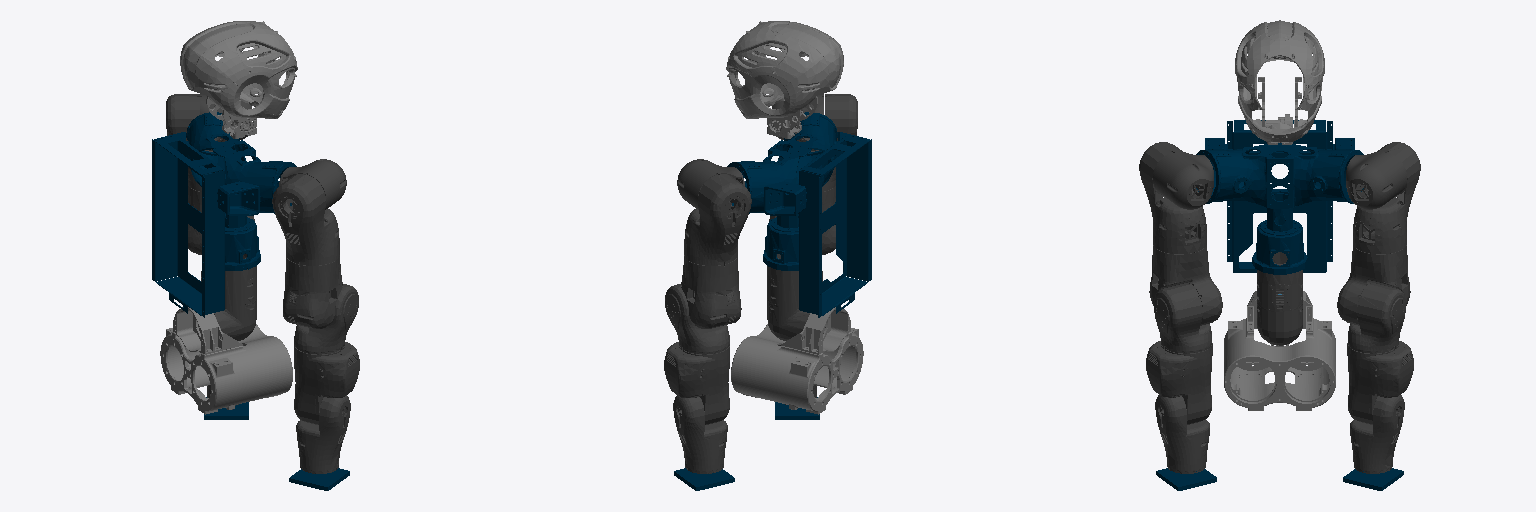
--- Facts derived from the render (not from the file) ---
Views: 3 orthographic renders of the robot side by side, from view 1: azimuth 30°, elevation 25°; view 2: azimuth 150°, elevation 25°; view 3: azimuth 270°, elevation 25°.
Model walkman with 51 links and 50 joints (30 revolute, 19 fixed, 1 floating), rooted at world, posed all joints at 0.
Visible links, largest first — view 1: DWYTorso, Waist, NeckPitch, RShr, RForearm, RShy, RWrMot2, DWL, RElb, RShp, LShr, RWrMot3 (+1 smaller); view 2: DWYTorso, Waist, NeckPitch, LShr, LForearm, LShy, LWrMot2, DWL, LElb, LShp, RShr, LWrMot3 (+1 smaller); view 3: DWYTorso, Waist, NeckPitch, RForearm, LForearm, RShr, LShr, DWL, RElb, LElb, RWrMot2, LWrMot2 (+6 smaller).
Boxes of the visible links, box(x1,y1,x2,y2) form: DWYTorso: box(152, 112, 296, 317); Waist: box(160, 307, 292, 414); NeckPitch: box(180, 21, 297, 134); RShr: box(272, 174, 339, 265); RForearm: box(294, 342, 359, 424); RShy: box(283, 256, 342, 328); RWrMot2: box(296, 395, 350, 473); DWL: box(214, 254, 256, 340); RElb: box(294, 284, 358, 354); RShp: box(279, 159, 346, 212); LShr: box(166, 94, 212, 191); RWrMot3: box(289, 468, 349, 490); DWYTorso: box(727, 112, 871, 317); Waist: box(731, 307, 863, 414); NeckPitch: box(726, 21, 843, 134); LShr: box(684, 174, 751, 265); LForearm: box(664, 342, 729, 424); LShy: box(681, 255, 741, 328); LWrMot2: box(673, 395, 727, 473); DWL: box(767, 254, 809, 340); LElb: box(665, 284, 729, 354); LShp: box(677, 159, 744, 212); RShr: box(811, 94, 857, 191); LWrMot3: box(674, 468, 734, 490); DWYTorso: box(1196, 120, 1363, 274); Waist: box(1224, 291, 1335, 410); NeckPitch: box(1235, 20, 1324, 141); RForearm: box(1146, 341, 1212, 424); LForearm: box(1347, 341, 1413, 424); RShr: box(1139, 142, 1206, 253); LShr: box(1353, 142, 1420, 253); DWL: box(1257, 252, 1302, 345); RElb: box(1153, 283, 1211, 353); LElb: box(1348, 283, 1406, 353); RWrMot2: box(1155, 395, 1209, 473); LWrMot2: box(1350, 395, 1404, 473).
Bounding box of the posed robot: 0.3313 × 0.6254 × 1.05 m (x, y, z).
17 mesh visuals loaded from 17 distinct referenced files (11 binary STL); not drawn: 12 (reference not matched to a file when rendering).

The robot description file, URDF, robot "walkman":
<?xml version="1.0" ?>
<!-- =================================================================================== -->
<!-- |    This document was autogenerated by xacro from walkman.urdf.xacro             | -->
<!-- |    EDITING THIS FILE BY HAND IS NOT RECOMMENDED                                 | -->
<!-- =================================================================================== -->
<robot name="walkman" xmlns:xacro="http://ros.org/wiki/xacro">
  <!-- 
  ROS urdf definition of the WALKMAN humanoid robot by Istituto Italiano di Tecnologia
  
  DO NOT INCLUDE THIS FILE DIRECTLY! USE bigman_robot.urdf.xacro INSTEAD!

  Author: Enrico Mingo Hoffman

  Inertial matrix has to be in CoM frame (URDF specs)

  Velocity and effort limits are fake!
-->
  <material name="grey">
    <color rgba="0.5 0.5 0.5 1"/>
  </material>
  <material name="dark_grey">
    <color rgba="0.3 0.3 0.3 1"/>
  </material>
  <material name="blue">
    <color rgba="0.0 0.2 0.3 1"/>
  </material>
  <!--
The coordinate frame called base_link is rigidly attached to the robot root body. It is recommended to choose the robot waist as its root body. The base_link can be attached to the root in any arbitrary position or orientation; for every hardware platform there will be a different place on the base that provides an obvious point of reference. Note that REP 103 [1] specifies a preferred orientation for frames. -->
  <link name="base_link"/>
  <!-- Here some masses are missing! -->
  <link name="Waist">
    <inertial>
      <origin rpy="0.0 0.0 0.0" xyz="0.027038986 -5.1554922e-06 -0.064188178"/>
      <mass value="2.9259094"/>
      <inertia ixx="0.02571361" ixy="9.5008024e-06" ixz="0.0043519496" iyy="0.02494919" iyz="4.5439311e-06" izz="0.02492012"/>
    </inertial>
    <visual>
      <origin rpy="0 0 0" xyz="0 0 0"/>
      <geometry name="Waist_visual">
        <mesh filename="package://walkman_urdf/meshes/Waist.STL" scale="0.001 0.001 0.001"/>
      </geometry>
      <material name="grey"/>
    </visual>
    <collision>
      <origin rpy="0 0 0" xyz="0 0 0"/>
      <geometry name="Waist_collision">
        <mesh filename="package://walkman_urdf/meshes/simple/Waist.STL" scale="0.001 0.001 0.001"/>
      </geometry>
    </collision>
  </link>
  <joint name="base_joint" type="fixed">
    <parent link="base_link"/>
    <child link="Waist"/>
    <origin rpy="0 0 0" xyz="0 0 0"/>
  </joint>
  <!-- LINKS -->
  <!-- ********************RIGHT LEG******************** -->
  <link name="RHipMot">
    <inertial>
      <origin rpy="0 0 0" xyz="-0.10348188 -0.10919813 -0.064924056"/>
      <mass value="3.7958197"/>
      <inertia ixx="0.015639017" ixy="0.0018504661" ixz="0.0023907793" iyy="0.023519749" iyz="-0.0023303162" izz="0.020953643"/>
    </inertial>
    <visual>
      <origin rpy="0 0 0" xyz="0 0 0"/>
      <geometry name="RHipMot_visual">
        <mesh filename="package://walkman_urdf/meshes/HipRoll.STL" scale="0.001 0.001 0.001"/>
      </geometry>
      <material name="dark_grey"/>
    </visual>
    <collision>
      <origin rpy="0 0 0" xyz="0 0 0"/>
      <geometry name="RHipMot_collision">
        <mesh filename="package://walkman_urdf/meshes/simple/HipRoll.STL" scale="0.001 0.001 0.001"/>
      </geometry>
    </collision>
  </link>
  <link name="RThighUpLeg">
    <inertial>
      <origin rpy="0 0 0" xyz="-0.0052929709 -0.022561833 0.0056701669"/>
      <mass value="3.2402068"/>
      <inertia ixx="0.010102097" ixy="0.00010858487" ixz="0.00025291395" iyy="0.0067147" iyz="8.3447072e-05" izz="0.01048513"/>
    </inertial>
    <visual>
      <origin rpy="0 0 0" xyz="0 0 0"/>
      <geometry name="RThighUpLeg_visual">
        <mesh filename="package://walkman_urdf/meshes/HipYaw.STL" scale="0.001 0.001 0.001"/>
      </geometry>
      <material name="dark_grey"/>
    </visual>
    <collision>
      <origin rpy="0 0 0" xyz="0 0 0"/>
      <geometry name="RThighUpLeg_collision">
        <mesh filename="package://walkman_urdf/meshes/simple/HipYaw.STL" scale="0.001 0.001 0.001"/>
      </geometry>
    </collision>
  </link>
  <link name="RThighLowLeg">
    <inertial>
      <origin rpy="0 0 0" xyz="0.037746286 -0.028539939 -0.19310133"/>
      <mass value="5.0950736"/>
      <inertia ixx="0.051607858" ixy="0.0022253472" ixz="0.002452979" iyy="0.044349153" iyz="-0.0041006942" izz="0.023374453"/>
    </inertial>
    <visual>
      <origin rpy="0 0 0" xyz="0 0 0"/>
      <geometry name="RThighLowLeg_visual">
        <mesh filename="package://walkman_urdf/meshes/HipPitch.STL" scale="0.001 0.001 0.001"/>
      </geometry>
      <material name="grey"/>
    </visual>
    <collision>
      <origin rpy="0 0 0" xyz="0 0 0"/>
      <geometry name="RThighLowLeg_collision">
        <mesh filename="package://walkman_urdf/meshes/simple/HipPitch.STL" scale="0.001 0.001 0.001"/>
      </geometry>
    </collision>
  </link>
  <link name="RLowLeg">
    <inertial>
      <origin rpy="0 0 0" xyz="-0.0050828668 0.0037732093 -0.072605017"/>
      <mass value="5.6495309"/>
      <inertia ixx="0.10535542" ixy="-0.00058199221" ixz="0.0016743598" iyy="0.097857796" iyz="-0.0033770181" izz="0.020854086"/>
    </inertial>
    <visual>
      <origin rpy="0 0 0" xyz="0 0 0"/>
      <geometry name="RLowLeg_visual">
        <mesh filename="package://walkman_urdf/meshes/KneePitchCalf.STL" scale="0.001 0.001 0.001"/>
      </geometry>
      <material name="dark_grey"/>
    </visual>
    <collision>
      <origin rpy="0 0 0" xyz="0 0 0"/>
      <geometry name="RLowLeg_collision">
        <mesh filename="package://walkman_urdf/meshes/simple/KneePitchCalf.STL" scale="0.001 0.001 0.001"/>
      </geometry>
    </collision>
  </link>
  <link name="RFootmot">
    <inertial>
      <origin rpy="0 0 0" xyz="-0.022024173 0.0025677238 0.00094588455"/>
      <mass value="3.2844159"/>
      <inertia ixx="0.0075550679" ixy="0.00067488292" ixz="5.8332889e-05" iyy="0.011241163" iyz="-0.00014552081" izz="0.013391865"/>
    </inertial>
    <visual>
      <origin rpy="0 0 0" xyz="0 0 0"/>
      <geometry name="RFootmot_visual">
        <mesh filename="package://walkman_urdf/meshes/AnklePitch.STL" scale="0.001 0.001 0.001"/>
      </geometry>
      <material name="dark_grey"/>
    </visual>
    <collision>
      <origin rpy="0 0 0" xyz="0 0 0"/>
      <geometry name="RFootmot_collision">
        <mesh filename="package://walkman_urdf/meshes/simple/AnklePitch.STL" scale="0.001 0.001 0.001"/>
      </geometry>
    </collision>
  </link>
  <link name="RFoot">
    <inertial>
      <origin rpy="0 0 0" xyz="-0.00653584 -0.00479384 -0.10180375"/>
      <mass value="3.42638110"/>
      <inertia ixx="0.01032886" ixy="-0.00016407" ixz="-0.00201294" iyy="0.02854025" iyz="0.00046315" izz="0.02799499"/>
    </inertial>
    <visual>
      <origin rpy="0 0 0" xyz="0 0 0"/>
      <geometry name="RFoot_visual">
        <mesh filename="package://walkman_urdf/meshes/Foot.STL" scale="0.001 0.001 0.001"/>
      </geometry>
      <material name="dark_grey"/>
    </visual>
    <collision>
      <origin rpy="0 0 0" xyz="0.005 -0.01 -0.1359"/>
      <geometry>
        <box size="0.32 0.16 0.015"/>
      </geometry>
    </collision>
  </link>
  <!-- ********************LEFT LEG******************** -->
  <link name="LHipMot">
    <inertial>
      <origin rpy="0 0 0" xyz="-0.10348188 0.10919813 -0.064924056"/>
      <mass value="3.7958197"/>
      <inertia ixx="0.015639017" ixy="-0.0018504661" ixz="0.0023907793" iyy="0.023519749" iyz="0.0023303162" izz="0.020953643"/>
    </inertial>
    <visual>
      <origin rpy="0 0 0" xyz="0 0 0"/>
      <geometry name="LHipMot_visual">
        <mesh filename="package://walkman_urdf/meshes/HipRoll.STL" scale="0.001 -0.001 0.001"/>
      </geometry>
      <material name="dark_grey"/>
    </visual>
    <collision>
      <origin rpy="0 0 0" xyz="0 0 0"/>
      <geometry name="LHipMot_collision">
        <mesh filename="package://walkman_urdf/meshes/simple/HipRoll.STL" scale="0.001 -0.001 0.001"/>
      </geometry>
    </collision>
  </link>
  <link name="LThighUpLeg">
    <inertial>
      <origin rpy="0 0 0" xyz="-0.0052929709 0.022561833 0.0056701669"/>
      <mass value="3.2402068"/>
      <inertia ixx="0.010102097" ixy="-0.00010858487" ixz="0.00025291395" iyy="0.0067147" iyz="-8.3447072e-05" izz="0.01048513"/>
    </inertial>
    <visual>
      <origin rpy="0 0 0" xyz="0 0 0"/>
      <geometry name="LThighUpLeg_visual">
        <mesh filename="package://walkman_urdf/meshes/HipYaw.STL" scale="0.001 -0.001 0.001"/>
      </geometry>
      <material name="dark_grey"/>
    </visual>
    <collision>
      <origin rpy="0 0 0" xyz="0 0 0"/>
      <geometry name="LThighUpLeg_collision">
        <mesh filename="package://walkman_urdf/meshes/simple/HipYaw.STL" scale="0.001 -0.001 0.001"/>
      </geometry>
    </collision>
  </link>
  <link name="LThighLowLeg">
    <inertial>
      <origin rpy="0 0 0" xyz="0.037746286 0.028539939 -0.19310133"/>
      <mass value="5.0950736"/>
      <inertia ixx="0.051607858" ixy="-0.0022253472" ixz="0.002452979" iyy="0.044349153" iyz="0.0041006942" izz="0.023374453"/>
    </inertial>
    <visual>
      <origin rpy="0 0 0" xyz="0 0 0"/>
      <geometry name="LThighLowLeg_visual">
        <mesh filename="package://walkman_urdf/meshes/HipPitch.STL" scale="0.001 -0.001 0.001"/>
      </geometry>
      <material name="grey"/>
    </visual>
    <collision>
      <origin rpy="0 0 0" xyz="0 0 0"/>
      <geometry name="LThighLowLeg_collision">
        <mesh filename="package://walkman_urdf/meshes/simple/HipPitch.STL" scale="0.001 -0.001 0.001"/>
      </geometry>
    </collision>
  </link>
  <link name="LLowLeg">
    <inertial>
      <origin rpy="0 0 0" xyz="-0.0050828668 -0.0037732093 -0.072605017"/>
      <mass value="5.6495309"/>
      <inertia ixx="0.10535542" ixy="0.00058199221" ixz="0.0016743598" iyy="0.097857796" iyz="0.0033770181" izz="0.020854086"/>
    </inertial>
    <visual>
      <origin rpy="0 0 0" xyz="0 0 0"/>
      <geometry name="LLowLeg_visual">
        <mesh filename="package://walkman_urdf/meshes/KneePitchCalf.STL" scale="0.001 -0.001 0.001"/>
      </geometry>
      <material name="dark_grey"/>
    </visual>
    <collision>
      <origin rpy="0 0 0" xyz="0 0 0"/>
      <geometry name="LLowLeg_collision">
        <mesh filename="package://walkman_urdf/meshes/simple/KneePitchCalf.STL" scale="0.001 -0.001 0.001"/>
      </geometry>
    </collision>
  </link>
  <link name="LFootmot">
    <inertial>
      <origin rpy="0 0 0" xyz="-0.022024173 -0.0025677238 0.00094588455"/>
      <mass value="3.2844159"/>
      <inertia ixx="0.0075550679" ixy="-0.00067488292" ixz="5.8332889e-05" iyy="0.011241163" iyz="0.00014552081" izz="0.013391865"/>
    </inertial>
    <visual>
      <origin rpy="0 0 0" xyz="0 0 0"/>
      <geometry name="LFootmot_visual">
        <mesh filename="package://walkman_urdf/meshes/AnklePitch.STL" scale="0.001 -0.001 0.001"/>
      </geometry>
      <material name="dark_grey"/>
    </visual>
    <collision>
      <origin rpy="0 0 0" xyz="0 0 0"/>
      <geometry name="LFootmot_collision">
        <mesh filename="package://walkman_urdf/meshes/simple/AnklePitch.STL" scale="0.001 -0.001 0.001"/>
      </geometry>
    </collision>
  </link>
  <link name="LFoot">
    <inertial>
      <origin rpy="0 0 0" xyz="-0.00653584 0.00479384 -0.10180375"/>
      <mass value="3.42638110"/>
      <inertia ixx="0.01032886" ixy="0.00016407" ixz="-0.00201294" iyy="0.02854025" iyz="-0.00046315" izz="0.02799499"/>
    </inertial>
    <visual>
      <origin rpy="0 0 0" xyz="0 0 0"/>
      <geometry name="LFoot_visual">
        <mesh filename="package://walkman_urdf/meshes/Foot.STL" scale="0.001 -0.001 0.001"/>
      </geometry>
      <material name="dark_grey"/>
    </visual>
    <collision>
      <origin rpy="0 0 0" xyz="0.005 0.01 -0.1359"/>
      <geometry>
        <box size="0.32 0.16 0.015"/>
      </geometry>
    </collision>
  </link>
  <!-- JOINTS -->
  <!-- ********************RIGHT LEG******************** -->
  <joint name="RHipLat" type="revolute">
    <parent link="Waist"/>
    <child link="RHipMot"/>
    <origin rpy="0 0 0" xyz="0.1569 -0.06 -0.108"/>
    <axis xyz="1 0 0"/>
    <limit effort="400" lower="-0.872664625997" upper="0.698131700798" velocity="6.283"/>
    <dynamics damping="3.0" friction="0"/>
  </joint>
  <joint name="RHipYaw" type="revolute">
    <parent link="RHipMot"/>
    <child link="RThighUpLeg"/>
    <origin rpy="0 0 0" xyz="-0.0889 -0.121032 -0.217872"/>
    <axis xyz="0 0 1"/>
    <limit effort="140" lower="-1.5707963268" upper="0.872664625997" velocity="6.283"/>
    <dynamics damping="3.0" friction="0"/>
  </joint>
  <joint name="RHipSag" type="revolute">
    <parent link="RThighUpLeg"/>
    <child link="RThighLowLeg"/>
    <origin rpy="0 0 0" xyz="0.0 0.0 0.0"/>
    <axis xyz="0 1 0"/>
    <limit effort="400" lower="-2.09439510239" upper="1.0471975512" velocity="6.283"/>
    <dynamics damping="3.0" friction="0"/>
  </joint>
  <joint name="RKneeSag" type="revolute">
    <parent link="RThighLowLeg"/>
    <child link="RLowLeg"/>
    <origin rpy="0 0 0" xyz="0.0 0.0 -0.356"/>
    <axis xyz="0 1 0"/>
    <limit effort="400" lower="0.0" upper="2.44346095279" velocity="6.283"/>
    <dynamics damping="3.0" friction="0"/>
  </joint>
  <joint name="RAnkSag" type="revolute">
    <parent link="RLowLeg"/>
    <child link="RFootmot"/>
    <origin rpy="0 0 0" xyz="0.0 0.0 -0.4"/>
    <axis xyz="0 1 0"/>
    <limit effort="330" lower="-1.3962634016" upper="0.698131700798" velocity="6.283"/>
    <dynamics damping="3.0" friction="0"/>
  </joint>
  <joint name="RAnkLat" type="revolute">
    <parent link="RFootmot"/>
    <child link="RFoot"/>
    <origin rpy="0 0 0" xyz="0.0 0.0 0.0"/>
    <axis xyz="1 0 0"/>
    <limit effort="210" lower="-0.785398163398" upper="0.785398163398" velocity="6.283"/>
    <dynamics damping="3.0" friction="0"/>
  </joint>
  <!-- ********************LEFT LEG******************** -->
  <joint name="LHipLat" type="revolute">
    <parent link="Waist"/>
    <child link="LHipMot"/>
    <origin rpy="0 0 0" xyz="0.1569 0.06 -0.108"/>
    <axis xyz="1 0 0"/>
    <limit effort="400" lower="-0.698131700798" upper="0.872664625997" velocity="6.283"/>
    <dynamics damping="3.0" friction="0"/>
  </joint>
  <joint name="LHipYaw" type="revolute">
    <parent link="LHipMot"/>
    <child link="LThighUpLeg"/>
    <origin rpy="0 0 0" xyz="-0.0889 0.121032 -0.217872"/>
    <axis xyz="0 0 1"/>
    <limit effort="140" lower="-0.872664625997" upper="1.5707963268" velocity="6.283"/>
    <dynamics damping="3.0" friction="0"/>
  </joint>
  <joint name="LHipSag" type="revolute">
    <parent link="LThighUpLeg"/>
    <child link="LThighLowLeg"/>
    <origin rpy="0 0 0" xyz="0.0 0.0 0.0"/>
    <axis xyz="0 1 0"/>
    <limit effort="400" lower="-2.09439510239" upper="1.0471975512" velocity="6.283"/>
    <dynamics damping="3.0" friction="0"/>
  </joint>
  <joint name="LKneeSag" type="revolute">
    <parent link="LThighLowLeg"/>
    <child link="LLowLeg"/>
    <origin rpy="0 0 0" xyz="0.0 0.0 -0.356"/>
    <axis xyz="0 1 0"/>
    <limit effort="400" lower="0.0" upper="2.44346095279" velocity="6.283"/>
    <dynamics damping="3.0" friction="0"/>
  </joint>
  <joint name="LAnkSag" type="revolute">
    <parent link="LLowLeg"/>
    <child link="LFootmot"/>
    <origin rpy="0 0 0" xyz="0.0 0.0 -0.4"/>
    <axis xyz="0 1 0"/>
    <limit effort="330" lower="-1.3962634016" upper="0.698131700798" velocity="6.283"/>
    <dynamics damping="3.0" friction="0"/>
  </joint>
  <joint name="LAnkLat" type="revolute">
    <parent link="LFootmot"/>
    <child link="LFoot"/>
    <origin rpy="0 0 0" xyz="0.0 0.0 0.0"/>
    <axis xyz="1 0 0"/>
    <limit effort="210" lower="-0.785398163398" upper="0.785398163398" velocity="6.283"/>
    <dynamics damping="3.0" friction="0"/>
  </joint>
  <link name="l_ankle"/>
  <link name="r_ankle"/>
  <link name="l_sole"/>
  <link name="r_sole"/>
  <joint name="l_ankle_joint" type="fixed">
    <parent link="LFoot"/>
    <child link="l_ankle"/>
    <origin rpy="0 0 0" xyz="0 0 0"/>
  </joint>
  <joint name="r_ankle_joint" type="fixed">
    <parent link="RFoot"/>
    <child link="r_ankle"/>
    <origin rpy="0 0 0" xyz="0 0 0"/>
  </joint>
  <joint name="l_sole_joint" type="fixed">
    <parent link="LFoot"/>
    <child link="l_sole"/>
    <origin rpy="0 0 0" xyz="0 0 -0.1435"/>
  </joint>
  <joint name="r_sole_joint" type="fixed">
    <parent link="RFoot"/>
    <child link="r_sole"/>
    <origin rpy="0 0 0" xyz="0 0 -0.1435"/>
  </joint>
  <!-- macro for one reference frame in foot -->
  <link name="l_foot_upper_right_link"/>
  <joint name="l_foot_upper_right_joint" type="fixed">
    <origin rpy="0 0 0" xyz="0.16 -0.07 0"/>
    <parent link="l_sole"/>
    <child link="l_foot_upper_right_link"/>
  </joint>
  <!-- macro for one reference frame in foot -->
  <link name="l_foot_upper_left_link"/>
  <joint name="l_foot_upper_left_joint" type="fixed">
    <origin rpy="0 0 0" xyz="0.16 0.09 0"/>
    <parent link="l_sole"/>
    <child link="l_foot_upper_left_link"/>
  </joint>
  <!-- macro for one reference frame in foot -->
  <link name="l_foot_lower_right_link"/>
  <joint name="l_foot_lower_right_joint" type="fixed">
    <origin rpy="0 0 0" xyz="-0.16 -0.07 0"/>
    <parent link="l_sole"/>
    <child link="l_foot_lower_right_link"/>
  </joint>
  <!-- macro for one reference frame in foot -->
  <link name="l_foot_lower_left_link"/>
  <joint name="l_foot_lower_left_joint" type="fixed">
    <origin rpy="0 0 0" xyz="-0.16 0.09 0"/>
    <parent link="l_sole"/>
    <child link="l_foot_lower_left_link"/>
  </joint>
  <!-- macro for one reference frame in foot -->
  <link name="r_foot_upper_right_link"/>
  <joint name="r_foot_upper_right_joint" type="fixed">
    <origin rpy="0 0 0" xyz="0.16 0.07 0"/>
    <parent link="r_sole"/>
    <child link="r_foot_upper_right_link"/>
  </joint>
  <!-- macro for one reference frame in foot -->
  <link name="r_foot_upper_left_link"/>
  <joint name="r_foot_upper_left_joint" type="fixed">
    <origin rpy="0 0 0" xyz="0.16 -0.09 0"/>
    <parent link="r_sole"/>
    <child link="r_foot_upper_left_link"/>
  </joint>
  <!-- macro for one reference frame in foot -->
  <link name="r_foot_lower_right_link"/>
  <joint name="r_foot_lower_right_joint" type="fixed">
    <origin rpy="0 0 0" xyz="-0.16 0.07 0"/>
    <parent link="r_sole"/>
    <child link="r_foot_lower_right_link"/>
  </joint>
  <!-- macro for one reference frame in foot -->
  <link name="r_foot_lower_left_link"/>
  <joint name="r_foot_lower_left_joint" type="fixed">
    <origin rpy="0 0 0" xyz="-0.16 -0.09 0"/>
    <parent link="r_sole"/>
    <child link="r_foot_lower_left_link"/>
  </joint>
  <!-- LINKS -->
  <!-- This links are defined in order to be compliant with http://www.ros.org/reps/rep-0120.html#coordinate-frames
and to define the end effectors of the robot-->
  <!-- The coordinate frame called torso is attached to the lowest body of the model which is a parent of l_gripper, r_gripper and gaze. -->
  <link name="DWL">
    <inertial>
      <origin rpy="0 0 0" xyz="-0.013438629 -2.4995993e-05 0.073562799"/>
      <mass value="2.4309068"/>
      <inertia ixx="0.016702798" ixy="3.5908153e-05" ixz="-0.0041709274" iyy="0.019440925" iyz="1.1578036e-05" izz="0.0057721068"/>
    </inertial>
    <visual>
      <origin rpy="0 0 0" xyz="0.0 0.0 0.0"/>
      <geometry name="DWL_visual">
        <mesh filename="package://walkman_urdf/meshes/TorsoRoll.STL" scale="0.001 0.001 0.001"/>
      </geometry>
      <material name="dark_grey"/>
    </visual>
    <collision>
      <origin rpy="0 0 0" xyz="0.0 0.0 0.0"/>
      <geometry name="DWL_collision">
        <mesh filename="package://walkman_urdf/meshes/simple/TorsoRoll.STL" scale="0.001 0.001 0.001"/>
      </geometry>
    </collision>
  </link>
  <link name="DWYTorso">
    <inertial>
      <origin rpy="0 0 0" xyz="-0.059646212 0.0014305062 0.042741527"/>
      <mass value="1.2512295e+01"/>
      <inertia ixx="0.21021617" ixy="-0.00015527214" ixz="-0.050216602" iyy="0.19982996" iyz="-0.00029204792" izz="0.14025094"/>
    </inertial>
    <visual>
      <origin rpy="0 0 0" xyz="0.0 0.0 0.0"/>
      <geometry name="DWYTorso_visual">
        <mesh filename="package://walkman_urdf/meshes/Chest.STL" scale="0.001 0.001 0.001"/>
      </geometry>
      <material name="blue"/>
    </visual>
    <collision>
      <origin rpy="0 0 0" xyz="0.0 0.0 0.0"/>
      <geometry name="DWYTorso_collision">
        <mesh filename="package://walkman_urdf/meshes/simple/Chest.STL" scale="0.001 0.001 0.001"/>
      </geometry>
    </collision>
  </link>
  <!--link name="torso"/-->
  <!-- JOINTS -->
  <!--joint name="torso_joint" type="fixed">
    <parent link="DWYTorso"/>
    <child link="torso"/>
    <origin xyz="0.0 0 0.0" rpy="0 0 0" /> 
</joint-->
  <joint name="WaistLat" type="revolute">
    <parent link="Waist"/>
    <child link="DWL"/>
    <origin rpy="0 0 0" xyz="0.0596 0 0.0"/>
    <axis xyz="1 0 0"/>
    <limit effort="120" lower="-0.610865238198" upper="0.610865238198" velocity="6.283"/>
    <dynamics damping="3.0" friction="0"/>
  </joint>
  <joint name="WaistYaw" type="revolute">
    <parent link="DWL"/>
    <child link="DWYTorso"/>
    <origin rpy="0 0 0" xyz="0.0088 0 0.22215"/>
    <axis xyz="0 0 1"/>
    <limit effort="120" lower="-1.74532925199" upper="1.74532925199" velocity="6.283"/>
    <dynamics damping="3.0" friction="0"/>
  </joint>
  <!-- LINKS -->
  <link name="NeckYaw">
    <inertial>
      <origin rpy="0 0 0" xyz="0.00017665124 -0.00056962982 0.009696191 "/>
      <mass value="5.9544662e-01"/>
      <inertia ixx="0.00044402452" ixy="-4.7573996e-08" ixz="1.2703055e-07" iyy="0.00036958221" iyz="5.6524326e-06" izz="0.00027123782"/>
    </inertial>
    <visual>
      <origin rpy="0 0 0" xyz="0.0 0.0 0.0"/>
      <geometry name="NeckYaw_visual">
        <mesh filename="package://walkman_urdf/meshes/NeckYaw.STL" scale="0.001 0.001 0.001"/>
      </geometry>
      <material name="grey"/>
    </visual>
    <collision>
      <origin rpy="0 0 0" xyz="0.0 0.0 0.0"/>
      <geometry name="NeckYaw_collision">
        <mesh filename="package://walkman_urdf/meshes/simple/NeckYaw.STL" scale="0.001 0.001 0.001"/>
      </geometry>
    </collision>
  </link>
  <link name="NeckPitch">
    <inertial>
      <origin rpy="0 0 0" xyz="0.0065724785 -0.034569915 0.11402826"/>
      <mass value="3.1388490"/>
      <inertia ixx="0.022067171" ixy="-3.2510922e-05" ixz="-0.001205899" iyy="0.019140289" iyz="-9.6672078e-05" izz="0.021334662"/>
    </inertial>
    <visual>
      <origin rpy="0 0 0" xyz="0.0 0.0 0.0"/>
      <geometry name="NeckPitch_visual">
        <mesh filename="package://walkman_urdf/meshes/NeckPitch.STL" scale="0.001 0.001 0.001"/>
      </geometry>
      <material name="grey"/>
    </visual>
    <collision>
      <origin rpy="0 0 0" xyz="0.0 0.0 0.0"/>
      <geometry name="NeckPitch_collision">
        <mesh filename="package://walkman_urdf/meshes/simple/NeckPitch.STL" scale="0.001 0.001 0.001"/>
      </geometry>
    </collision>
  </link>
  <!-- JOINTS -->
  <joint name="NeckYawj" type="revolute">
    <parent link="DWYTorso"/>
    <child link="NeckYaw"/>
    <origin rpy="0 0 0" xyz="0.016 0 0.238292"/>
    <axis xyz="0 0 1"/>
    <limit effort="120" lower="-0.610865238198" upper="0.610865238198" velocity="6.283"/>
    <dynamics damping="3.0" friction="0"/>
  </joint>
  <joint name="NeckPitchj" type="revolute">
    <parent link="NeckYaw"/>
    <child link="NeckPitch"/>
    <origin rpy="0 0 0" xyz="0 0.03425 0.027"/>
    <axis xyz="0 1 0"/>
    <limit effort="120" lower="-0.261799387799" upper="1.0471975512" velocity="6.283"/>
    <dynamics damping="3.0" friction="0"/>
  </joint>
  <!-- RIGHT ARM -->
  <link name="RShp">
    <inertial>
      <origin rpy="0 0 0" xyz="-0.0074457212 -0.03410796 0.00010978102"/>
      <mass value="1.9628675"/>
      <inertia ixx="0.0053547717" ixy="-0.00036428926" ixz="1.5089568e-05" iyy="0.0033923328" iyz="-5.5692312e-05" izz="0.0068921413"/>
    </inertial>
    <visual>
      <origin rpy="0 0 0" xyz="0 0 0"/>
      <geometry name="RShp_visual">
        <mesh filename="package://walkman_urdf/meshes/ShoulderPitch.STL" scale="0.001 0.001 0.001"/>
      </geometry>
      <material name="dark_grey"/>
    </visual>
    <collision>
      <origin rpy="0 0 0" xyz="0 0 0"/>
      <geometry name="RShp_collision">
        <mesh filename="package://walkman_urdf/meshes/simple/ShoulderPitch.STL" scale="0.001 0.001 0.001"/>
      </geometry>
    </collision>
  </link>
  <link name="RShr">
    <inertial>
      <origin rpy="0 0 0" xyz="0.058142302 -5.7450803e-05 -0.077477683"/>
      <mass value="1.8595811"/>
      <inertia ixx="0.013776643" ixy="-3.7788675e-05" ixz="0.0037690171" iyy="0.015677464" iyz="9.4893549e-06" izz="0.0046317657"/>
    </inertial>
    <visual>
      <origin rpy="0 0 0" xyz="0 0 0"/>
      <geometry name="RShr_visual">
        <mesh filename="package://walkman_urdf/meshes/ShoulderRoll.STL" scale="0.001 0.001 0.001"/>
      </geometry>
      <material name="dark_grey"/>
    </visual>
    <collision>
      <origin rpy="0 0 0" xyz="0 0 0"/>
      <geometry name="RShr_collision">
        <mesh filename="package://walkman_urdf/meshes/simple/ShoulderRoll.STL" scale="0.001 0.001 0.001"/>
      </geometry>
    </collision>
  </link>
  <link name="RShy">
    <inertial>
      <origin rpy="0 0 0" xyz="0.014625194 -0.0008172672 -0.028333545"/>
      <mass value="1.6678109"/>
      <inertia ixx="0.0064480435" ixy="0.00015639093" ixz="0.0012205359" iyy="0.0073372077" iyz="-8.9941532e-05" izz="0.0036738448"/>
    </inertial>
    <visual>
      <origin rpy="0 0 0" xyz="0 0 0"/>
      <geometry name="RShy_visual">
        <mesh filename="package://walkman_urdf/meshes/ShoulderYaw.STL" scale="0.001 0.001 0.001"/>
      </geometry>
      <material name="dark_grey"/>
    </visual>
    <collision>
      <origin rpy="0 0 0" xyz="0 0 0"/>
      <geometry name="RShy_collision">
        <mesh filename="package://walkman_urdf/meshes/simple/ShoulderYaw.STL" scale="0.001 0.001 0.001"/>
      </geometry>
    </collision>
  </link>
  <link name="RElb">
    <inertial>
      <origin rpy="0 0 0" xyz="-0.0076833067 0.040302205 -0.043492779"/>
      <mass value="1.3157289"/>
      <inertia ixx="0.004330394" ixy="0.00011737391" ixz="-0.00041923199" iyy="0.0038539919" iyz="0.00079573038" izz="0.0017594689"/>
    </inertial>
    <visual>
      <origin rpy="0 0 0" xyz="0 0 0"/>
      <geometry name="RElb_visual">
        <mesh filename="package://walkman_urdf/meshes/Elbow.STL" scale="0.001 0.001 0.001"/>
      </geometry>
      <material name="dark_grey"/>
    </visual>
    <collision>
      <origin rpy="0 0 0" xyz="0 0 0"/>
      <geometry name="RElb_collision">
        <mesh filename="package://walkman_urdf/meshes/simple/Elbow.STL" scale="0.001 0.001 0.001"/>
      </geometry>
    </collision>
  </link>
  <link name="RForearm">
    <inertial>
      <origin rpy="0 0 0" xyz="-0.00011079615 -0.011590836 -0.07816026"/>
      <mass value="1.4908547"/>
      <inertia ixx="0.0085692128" ixy="-1.7856252e-05" ixz="1.9379365e-05" iyy="0.0077454159" iyz="0.00032860094" izz="0.0027441921"/>
    </inertial>
    <visual>
      <origin rpy="0 0 0" xyz="0 0 0"/>
      <geometry name="RForearm_visual">
        <mesh filename="package://walkman_urdf/meshes/Forearm.STL" scale="0.001 0.001 0.001"/>
      </geometry>
      <material name="dark_grey"/>
    </visual>
    <collision>
      <origin rpy="0 0 0" xyz="0 0 0"/>
      <geometry name="RForearm_collision">
        <mesh filename="package://walkman_urdf/meshes/simple/Forearm.STL" scale="0.001 0.001 0.001"/>
      </geometry>
    </collision>
  </link>
  <link name="RWrMot2">
    <inertial>
      <origin rpy="0 0 0" xyz="-4.6502396e-06 0.038014094 -0.069926878"/>
      <mass value="1.1263612"/>
      <inertia ixx="0.0051871784" ixy="-2.724437e-05" ixz="2.2833496e-06" iyy="0.0048037789" iyz="0.00072165653" izz="0.0012771388"/>
    </inertial>
    <visual>
      <origin rpy="0 0 0" xyz="0 0 0"/>
      <geometry name="RWrMot2_visual">
        <mesh filename="package://walkman_urdf/meshes/ForearmPitch.STL" scale="0.001 0.001 0.001"/>
      </geometry>
      <material name="dark_grey"/>
    </visual>
    <collision>
      <origin rpy="0 0 0" xyz="0 0 0"/>
      <geometry name="RWrMot2_collision">
        <mesh filename="package://walkman_urdf/meshes/simple/ForearmPitch.STL" scale="0.001 0.001 0.001"/>
      </geometry>
    </collision>
  </link>
  <link name="RWrMot3">
    <inertial>
      <origin rpy="0 0 0" xyz="0 0 0.03127057"/>
      <mass value="2.7966428e-01"/>
      <inertia ixx="0.00014415192" ixy="9.8651826e-08" ixz="0" iyy="0.0001441701" iyz="0" izz="6.0500616e-05"/>
    </inertial>
    <visual>
      <!--origin xyz="0 0 0" rpy="0 0 0"/-->
      <origin rpy="0 0 0" xyz="0 0 0"/>
      <geometry name="RWrMot3_visual">
        <!--mesh filename="package://walkman_urdf/meshes/ForearmYaw.STL" scale="0.001 0.001 0.001" /-->
        <box size="0.1 0.1 0.01"/>
      </geometry>
      <material name="blue"/>
    </visual>
    <collision>
      <!--origin xyz="0 0 0" rpy="0 0 0"/-->
      <origin rpy="0 0 0" xyz="0 0 0"/>
      <geometry name="RWrMot3_collision">
        <!--mesh filename="package://walkman_urdf/meshes/simple/ForearmYaw.STL" scale="0.001 0.001 0.001" /-->
        <box size="0.1 0.1 0.01"/>
      </geometry>
    </collision>
  </link>
  <joint name="RShSag" type="revolute">
    <parent link="DWYTorso"/>
    <child link="RShp"/>
    <origin rpy="-0.174533 0 0.5235988" xyz="0.0457475 -0.169137 0.155126"/>
    <axis xyz="0 1 0"/>
    <limit effort="147" lower="-3.40339204139" upper="1.65806278939" velocity="6.283"/>
    <dynamics damping="3.0" friction="0"/>
  </joint>
  <joint name="RShLat" type="revolute">
    <parent link="RShp"/>
    <child link="RShr"/>
    <origin rpy="0.1745327 0 0" xyz="-0.09015 -0.062 0"/>
    <axis xyz="1 0 0"/>
    <limit effort="120" lower="-3.49065850399" upper="0" velocity="6.283"/>
    <dynamics damping="3.0" friction="0"/>
  </joint>
  <joint name="RShYaw" type="revolute">
    <parent link="RShr"/>
    <child link="RShy"/>
    <origin rpy="0 0 0" xyz="0.09015 0 -0.21815"/>
    <axis xyz="0 0 1"/>
    <limit effort="147" lower="-2.61799387799" upper="2.61799387799" velocity="6.283"/>
    <dynamics damping="3.0" friction="0"/>
  </joint>
  <joint name="RElbj" type="revolute">
    <parent link="RShy"/>
    <child link="RElb"/>
    <origin rpy="0 0 0" xyz="0.045 -0.05515 -0.074"/>
    <axis xyz="0 1 0"/>
    <limit effort="147" lower="-2.96705972839" upper="0.593411945678" velocity="6.283"/>
    <dynamics damping="3.0" friction="0"/>
  </joint>
  <joint name="RForearmPlate" type="revolute">
    <parent link="RElb"/>
    <child link="RForearm"/>
    <origin rpy="0 0 0" xyz="-0.015 0.05515 -0.095"/>
    <axis xyz="0 0 1"/>
    <limit effort="55" lower="-2.61799387799" upper="2.61799387799" velocity="6.283"/>
    <dynamics damping="0.03" friction="0"/>
  </joint>
  <joint name="RWrj1" type="revolute">
    <parent link="RForearm"/>
    <child link="RWrMot2"/>
    <origin rpy="0 0 0" xyz="0 -0.049 -0.156"/>
    <axis xyz="0 1 0"/>
    <limit effort="55" lower="-1.5707963268" upper="1.5707963268" velocity="6.283"/>
    <dynamics damping="0.03" friction="0"/>
  </joint>
  <joint name="RWrj2" type="revolute">
    <parent link="RWrMot2"/>
    <child link="RWrMot3"/>
    <origin rpy="0 0 0" xyz="0 0.049 -0.174"/>
    <axis xyz="0 0 1"/>
    <limit effort="27" lower="-2.61799387799" upper="2.61799387799" velocity="6.283"/>
    <dynamics damping="0.03" friction="0"/>
  </joint>
  <!-- LEFT ARM -->
  <link name="LShp">
    <inertial>
      <origin rpy="0 0 0" xyz="-0.0074457212 0.03410796 0.00010978102"/>
      <mass value="1.9628675"/>
      <inertia ixx="0.0053547717" ixy="0.00036428926" ixz="1.5089568e-05" iyy="0.0033923328" iyz="5.5692312e-05" izz="0.0068921413"/>
    </inertial>
    <visual>
      <origin rpy="0 0 0" xyz="0 0 0"/>
      <geometry name="LShp_visual">
        <mesh filename="package://walkman_urdf/meshes/ShoulderPitch.STL" scale="0.001 -0.001 0.001"/>
      </geometry>
      <material name="dark_grey"/>
    </visual>
    <collision>
      <origin rpy="0 0 0" xyz="0 0 0"/>
      <geometry name="LShp_collision">
        <mesh filename="package://walkman_urdf/meshes/simple/ShoulderPitch.STL" scale="0.001 -0.001 0.001"/>
      </geometry>
    </collision>
  </link>
  <link name="LShr">
    <inertial>
      <origin rpy="0 0 0" xyz="0.058142302 5.7450803e-05 -0.077477683"/>
      <mass value="1.8595811"/>
      <inertia ixx="0.013776643" ixy="3.7788675e-05" ixz="0.0037690171" iyy="0.015677464" iyz="-9.4893549e-06" izz="0.0046317657"/>
    </inertial>
    <visual>
      <origin rpy="0 0 0" xyz="0 0 0"/>
      <geometry name="LShr_visual">
        <mesh filename="package://walkman_urdf/meshes/ShoulderRoll.STL" scale="0.001 -0.001 0.001"/>
      </geometry>
      <material name="dark_grey"/>
    </visual>
    <collision>
      <origin rpy="0 0 0" xyz="0 0 0"/>
      <geometry name="LShr_collision">
        <mesh filename="package://walkman_urdf/meshes/simple/ShoulderRoll.STL" scale="0.001 -0.001 0.001"/>
      </geometry>
    </collision>
  </link>
  <link name="LShy">
    <inertial>
      <origin rpy="0 0 0" xyz="0.014625194 0.0008172672 -0.028333545"/>
      <mass value="1.6678109"/>
      <inertia ixx="0.0064480435" ixy="-0.00015639093" ixz="0.0012205359" iyy="0.0073372077" iyz="8.9941532e-05" izz="0.0036738448"/>
    </inertial>
    <visual>
      <origin rpy="0 0 0" xyz="0 0 0"/>
      <geometry name="LShy_visual">
        <mesh filename="package://walkman_urdf/meshes/ShoulderYaw.STL" scale="0.001 -0.001 0.001"/>
      </geometry>
      <material name="dark_grey"/>
    </visual>
    <collision>
      <origin rpy="0 0 0" xyz="0 0 0"/>
      <geometry name="LShy_collision">
        <mesh filename="package://walkman_urdf/meshes/simple/ShoulderYaw.STL" scale="0.001 -0.001 0.001"/>
      </geometry>
    </collision>
  </link>
  <link name="LElb">
    <inertial>
      <origin rpy="0 0 0" xyz="-0.0076833067 -0.040302205 -0.043492779"/>
      <mass value="1.3157289"/>
      <inertia ixx="0.004330394" ixy="-0.00011737391" ixz="-0.00041923199" iyy="0.0038539919" iyz="-0.00079573038" izz="0.0017594689"/>
    </inertial>
    <visual>
      <origin rpy="0 0 0" xyz="0 0 0"/>
      <geometry name="LElb_visual">
        <mesh filename="package://walkman_urdf/meshes/Elbow.STL" scale="0.001 -0.001 0.001"/>
      </geometry>
      <material name="dark_grey"/>
    </visual>
    <collision>
      <origin rpy="0 0 0" xyz="0 0 0"/>
      <geometry name="LElb_collision">
        <mesh filename="package://walkman_urdf/meshes/simple/Elbow.STL" scale="0.001 -0.001 0.001"/>
      </geometry>
    </collision>
  </link>
  <link name="LForearm">
    <inertial>
      <origin rpy="0 0 0" xyz="-0.00011079615 0.011590836 -0.07816026"/>
      <mass value="1.4908547"/>
      <inertia ixx="0.0085692128" ixy="1.7856252e-05" ixz="1.9379365e-05" iyy="0.0077454159" iyz="-0.00032860094" izz="0.0027441921"/>
    </inertial>
    <visual>
      <origin rpy="0 0 0" xyz="0 0 0"/>
      <geometry name="LForearm_visual">
        <mesh filename="package://walkman_urdf/meshes/Forearm.STL" scale="0.001 -0.001 0.001"/>
      </geometry>
      <material name="dark_grey"/>
    </visual>
    <collision>
      <origin rpy="0 0 0" xyz="0 0 0"/>
      <geometry name="LForearm_collision">
        <mesh filename="package://walkman_urdf/meshes/simple/Forearm.STL" scale="0.001 -0.001 0.001"/>
      </geometry>
    </collision>
  </link>
  <link name="LWrMot2">
    <inertial>
      <origin rpy="0 0 0" xyz="-4.6502396e-06 -0.038014094 -0.069926878"/>
      <mass value="1.1263612"/>
      <inertia ixx="0.0051871784" ixy="2.724437e-05" ixz="2.2833496e-06" iyy="0.0048037789" iyz="-0.00072165653" izz="0.0012771388"/>
    </inertial>
    <visual>
      <origin rpy="0 0 0" xyz="0 0 0"/>
      <geometry name="LWrMot2_visual">
        <mesh filename="package://walkman_urdf/meshes/ForearmPitch.STL" scale="0.001 -0.001 0.001"/>
      </geometry>
      <material name="dark_grey"/>
    </visual>
    <collision>
      <origin rpy="0 0 0" xyz="0 0 0"/>
      <geometry name="LWrMot2_collision">
        <mesh filename="package://walkman_urdf/meshes/simple/ForearmPitch.STL" scale="0.001 -0.001 0.001"/>
      </geometry>
    </collision>
  </link>
  <link name="LWrMot3">
    <inertial>
      <origin rpy="0 0 0" xyz="0 0 0.03127057"/>
      <mass value="2.7966428e-01"/>
      <inertia ixx="0.00014415192" ixy="9.8651826e-08" ixz="0" iyy="0.0001441701" iyz="0" izz="6.0500616e-05"/>
    </inertial>
    <visual>
      <!--origin xyz="0 0 0" rpy="0 0 0"/-->
      <origin rpy="0 0 0" xyz="0 0 0"/>
      <geometry name="LWrMot3_visual">
        <!--mesh filename="package://walkman_urdf/meshes/ForearmYaw.STL" scale="0.001 -0.001 0.001" /-->
        <box size="0.1 0.1 0.01"/>
      </geometry>
      <material name="blue"/>
    </visual>
    <collision>
      <!--origin xyz="0 0 0" rpy="0 0 0"/-->
      <origin rpy="0 0 0" xyz="0 0 0"/>
      <geometry name="LWrMot3_collision">
        <!--mesh filename="package://walkman_urdf/meshes/simple/ForearmYaw.STL" scale="0.001 -0.001 0.001" /-->
        <box size="0.1 0.1 0.01"/>
      </geometry>
    </collision>
  </link>
  <joint name="LShSag" type="revolute">
    <parent link="DWYTorso"/>
    <child link="LShp"/>
    <origin rpy="0.174533 0 -0.5235988" xyz="0.0457475 0.169137 0.155126"/>
    <axis xyz="0 1 0"/>
    <limit effort="147" lower="-3.40339204139" upper="1.65806278939" velocity="6.283"/>
    <dynamics damping="3.0" friction="0"/>
  </joint>
  <joint name="LShLat" type="revolute">
    <parent link="LShp"/>
    <child link="LShr"/>
    <origin rpy="-0.1745327 0 0" xyz="-0.09015 0.062 0"/>
    <axis xyz="1 0 0"/>
    <limit effort="120" lower="0" upper="3.49065850399" velocity="6.283"/>
    <dynamics damping="3.0" friction="0"/>
  </joint>
  <joint name="LShYaw" type="revolute">
    <parent link="LShr"/>
    <child link="LShy"/>
    <origin rpy="0 0 0" xyz="0.09015 0 -0.21815"/>
    <axis xyz="0 0 1"/>
    <limit effort="147" lower="-2.61799387799" upper="2.61799387799" velocity="6.283"/>
    <dynamics damping="3.0" friction="0"/>
  </joint>
  <joint name="LElbj" type="revolute">
    <parent link="LShy"/>
    <child link="LElb"/>
    <origin rpy="0 0 0" xyz="0.045 0.05515 -0.074"/>
    <axis xyz="0 1 0"/>
    <limit effort="147" lower="-2.53072741539" upper="0.349065850399" velocity="6.283"/>
    <dynamics damping="3.0" friction="0"/>
  </joint>
  <joint name="LForearmPlate" type="revolute">
    <parent link="LElb"/>
    <child link="LForearm"/>
    <origin rpy="0 0 0" xyz="-0.015 -0.05515 -0.095"/>
    <axis xyz="0 0 1"/>
    <limit effort="55" lower="-2.61799387799" upper="2.61799387799" velocity="6.283"/>
    <dynamics damping="0.03" friction="0"/>
  </joint>
  <joint name="LWrj1" type="revolute">
    <parent link="LForearm"/>
    <child link="LWrMot2"/>
    <origin rpy="0 0 0" xyz="0 0.049 -0.156"/>
    <axis xyz="0 1 0"/>
    <limit effort="55" lower="-1.5707963268" upper="1.5707963268" velocity="6.283"/>
    <dynamics damping="0.03" friction="0"/>
  </joint>
  <joint name="LWrj2" type="revolute">
    <parent link="LWrMot2"/>
    <child link="LWrMot3"/>
    <origin rpy="0 0 0" xyz="0 -0.049 -0.174"/>
    <axis xyz="0 0 1"/>
    <limit effort="27" lower="-2.61799387799" upper="2.61799387799" velocity="6.283"/>
    <dynamics damping="0.03" friction="0"/>
  </joint>
  <link name="l_wrist"/>
  <link name="r_wrist"/>
  <joint name="l_wrist_joint" type="fixed">
    <parent link="LWrMot3"/>
    <child link="l_wrist"/>
    <origin rpy="0 0 0" xyz="0 0 0"/>
  </joint>
  <joint name="r_wrist_joint" type="fixed">
    <parent link="RWrMot3"/>
    <child link="r_wrist"/>
    <origin rpy="0 0 0" xyz="0 0 0"/>
  </joint>
  <link name="world"/>
  <joint name="reference" type="floating">
    <origin xyz="0.0 0.0 0.0"/>
    <parent link="world"/>
    <child link="base_link"/>
  </joint>
  <link name="l_leg_ft"/>
  <link name="r_leg_ft"/>
  <joint name="l_leg_ft_joint" type="fixed">
    <parent link="LFoot"/>
    <child link="l_leg_ft"/>
    <origin rpy="0 0 0" xyz="0.005 0 -0.107"/>
  </joint>
  <joint name="r_leg_ft_joint" type="fixed">
    <parent link="RFoot"/>
    <child link="r_leg_ft"/>
    <origin rpy="0 0 0" xyz="0.005 0 -0.107"/>
  </joint>
  <link name="imu_link">
    <inertial>
      <mass value="0.01"/>
      <origin xyz="0 0 0"/>
      <inertia ixx="1.0E-6" ixy="0" ixz="0" iyy="1.0E-6" iyz="0" izz="1.0E-6"/>
    </inertial>
    <visual>
      <origin rpy="0 0 0" xyz="0 0 0"/>
      <geometry>
        <box size="0.01 0.01 0.01"/>
      </geometry>
    </visual>
  </link>
  <link name="imu_link2">
    <inertial>
      <mass value="0.01"/>
      <origin xyz="0 0 0"/>
      <inertia ixx="1.0E-6" ixy="0" ixz="0" iyy="1.0E-6" iyz="0" izz="1.0E-6"/>
    </inertial>
    <visual>
      <origin rpy="0 0 0" xyz="0 0 0"/>
      <geometry>
        <box size="0.01 0.01 0.01"/>
      </geometry>
    </visual>
  </link>
  <joint name="imu_joint" type="fixed">
    <parent link="Waist"/>
    <child link="imu_link"/>
    <origin rpy="0 0 0" xyz="0.0535 0.0 0.0601"/>
  </joint>
  <joint name="imu_joint2" type="fixed">
    <parent link="Waist"/>
    <child link="imu_link2"/>
    <origin rpy="0 0 0" xyz="0.0135 0.0 0.0601"/>
  </joint>
</robot>
